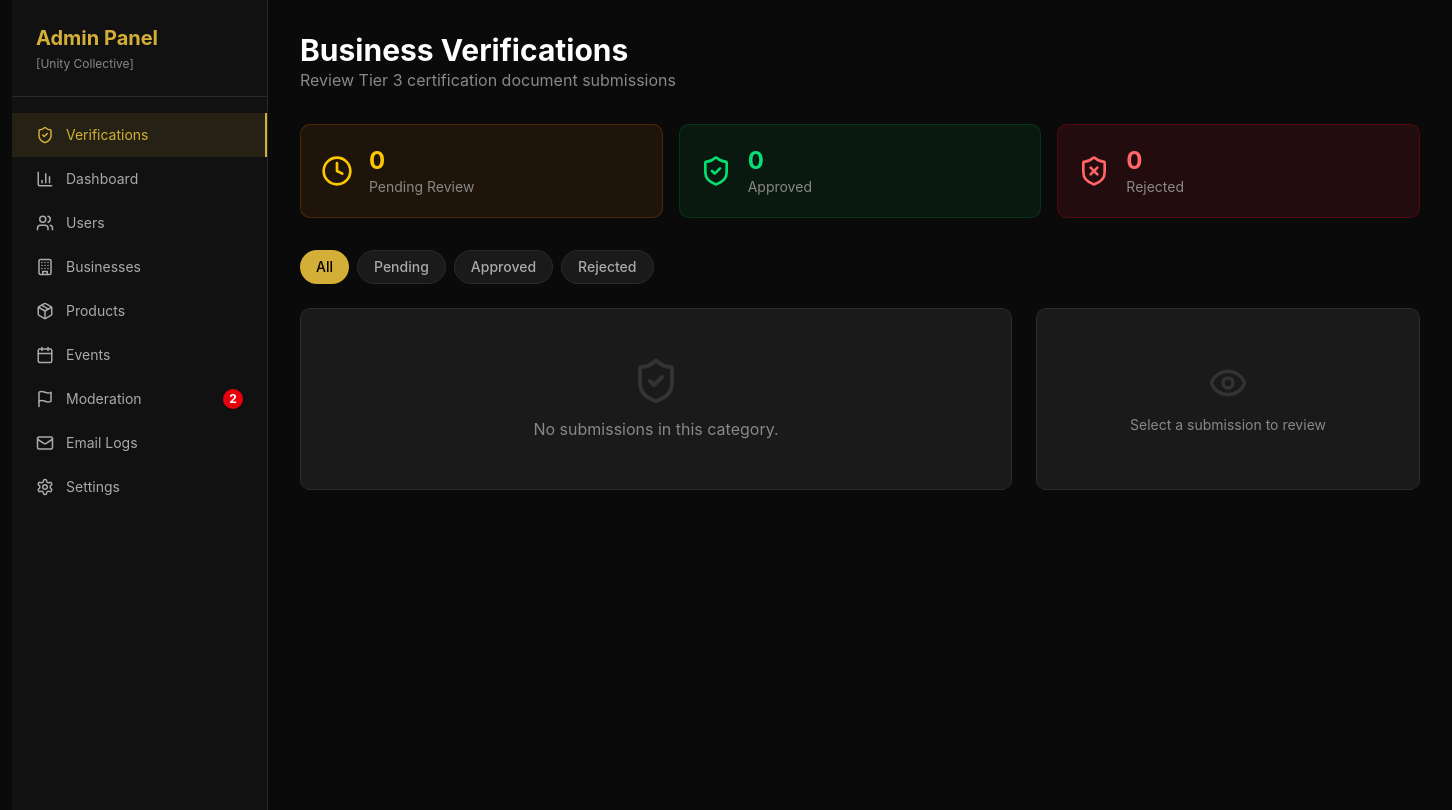
it: AdminPanel — Moderation refinement › moves a resolved report into visible decision history with the moderator reference
Click the button "Moderation 2" at (140, 399), box [12,377,267,421]
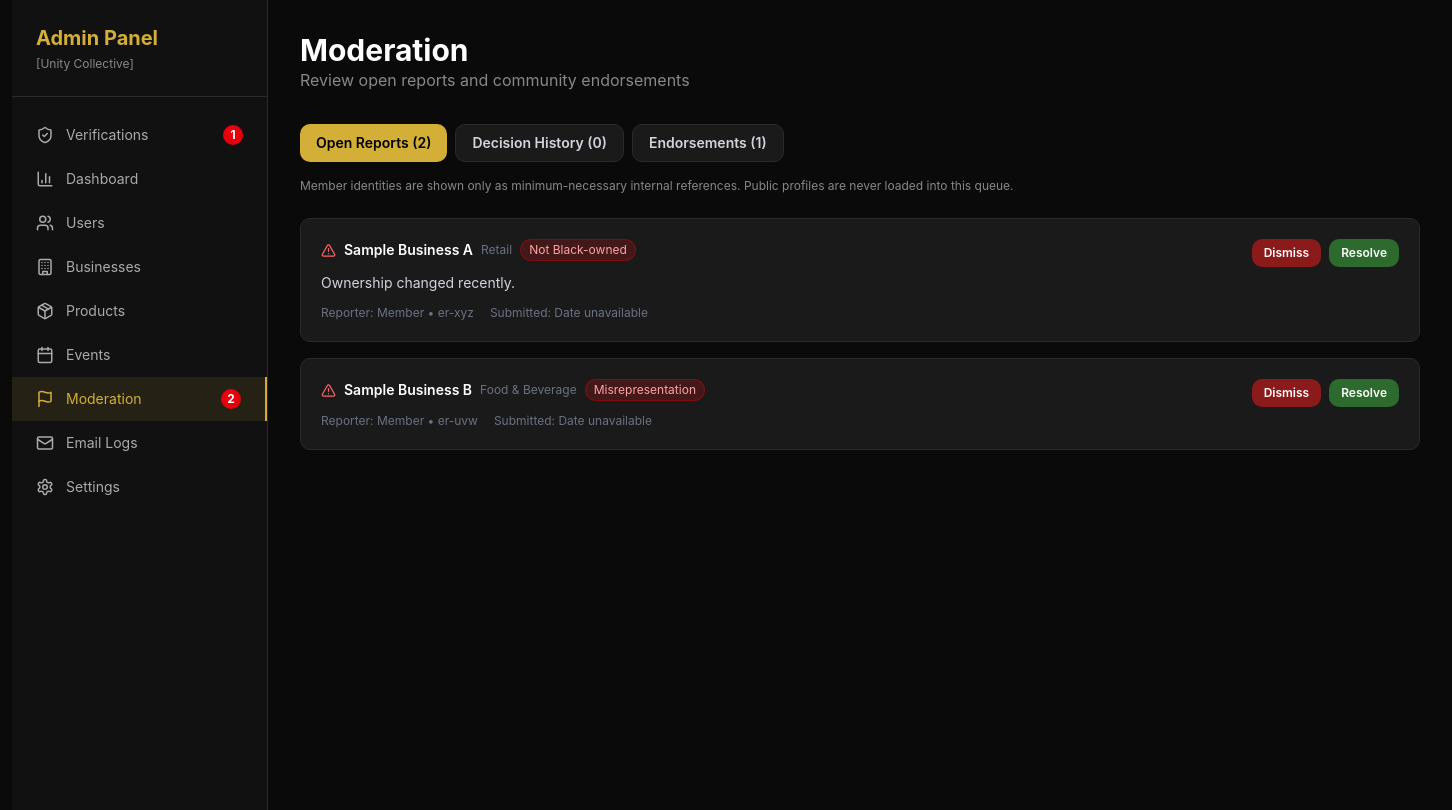
Expected: the button "Open Reports (2)" is shown, [300,124,447,162]
Click the button "Resolve" in the row of "Not Black-owned" at (1364, 253), box [1329,239,1399,267]
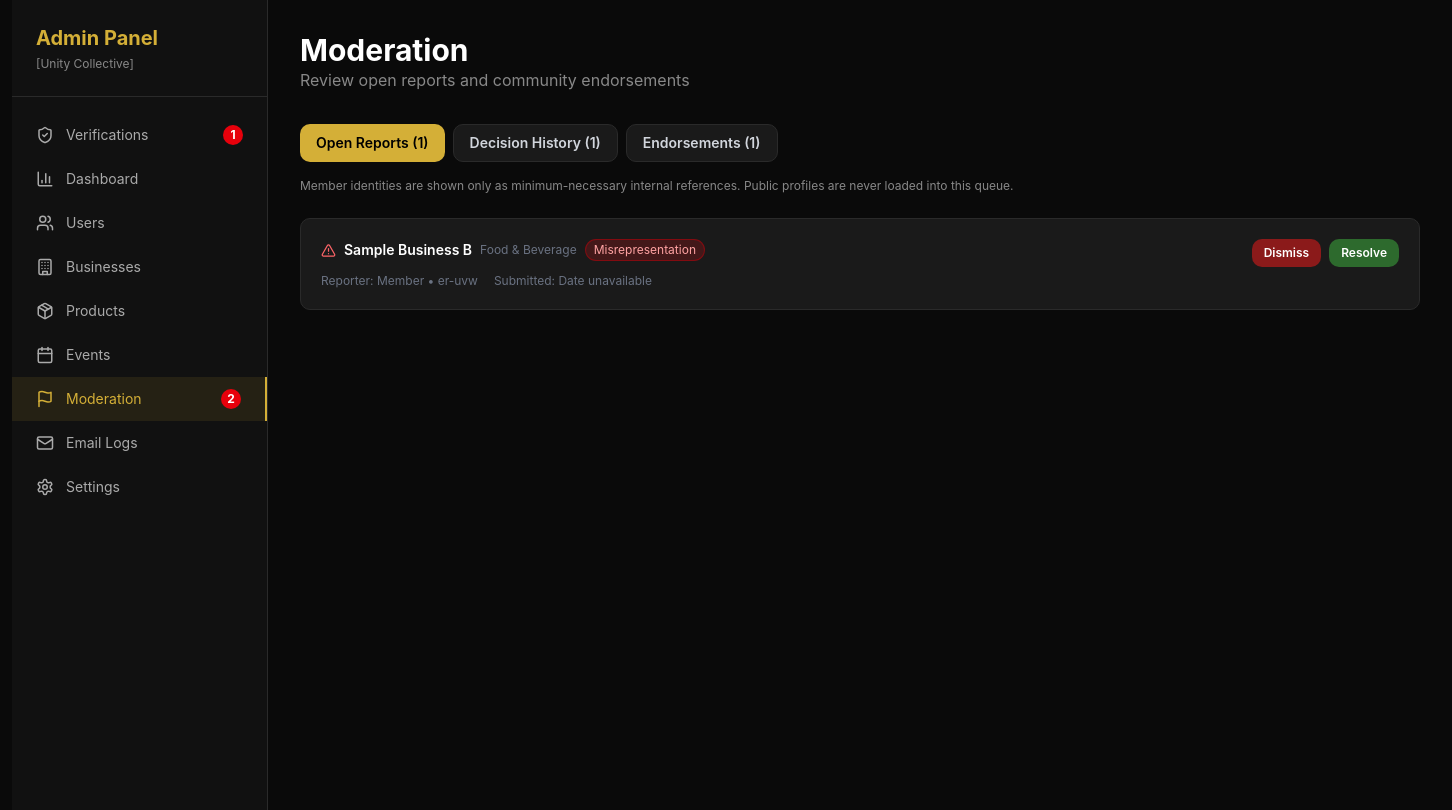
Expected: the button "Open Reports (1)" is shown, [300,124,445,162]
Expected: the button "Decision History (1)" is shown
Click the button "Decision History (1)" at (535, 143), box [453,124,618,162]
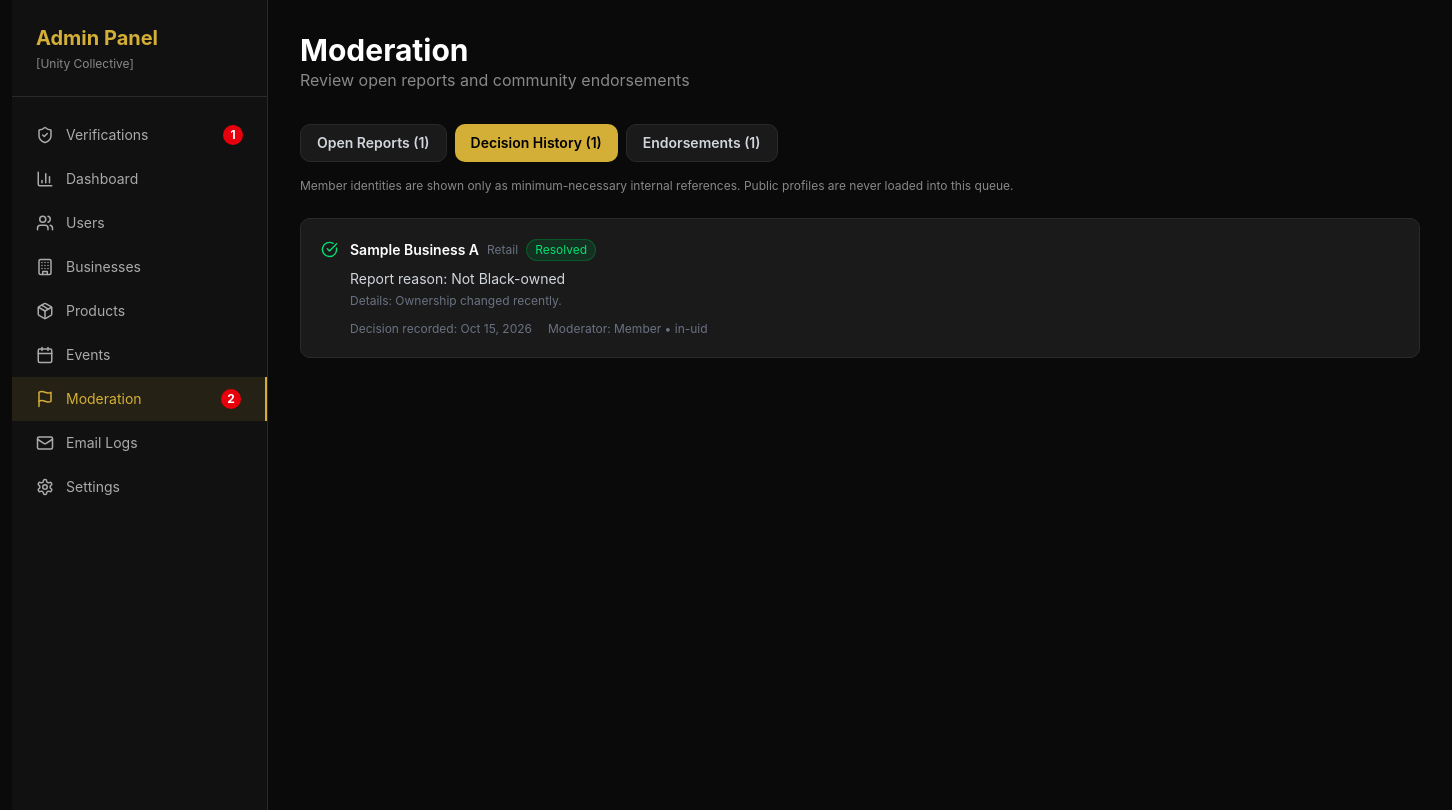
Expected: the text "Resolved" is shown, [526,239,596,261]
Expected: the text "Moderator: Member • in-uid" is shown, [548,321,708,337]
Expected: the text "Decision recorded: Oct 15, 2026" is shown, [350,321,532,337]
